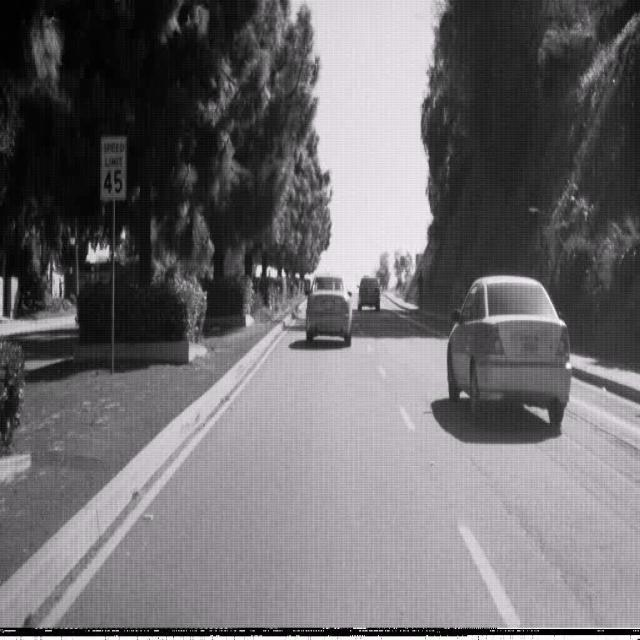speedLimit45: (99, 136, 127, 201)
